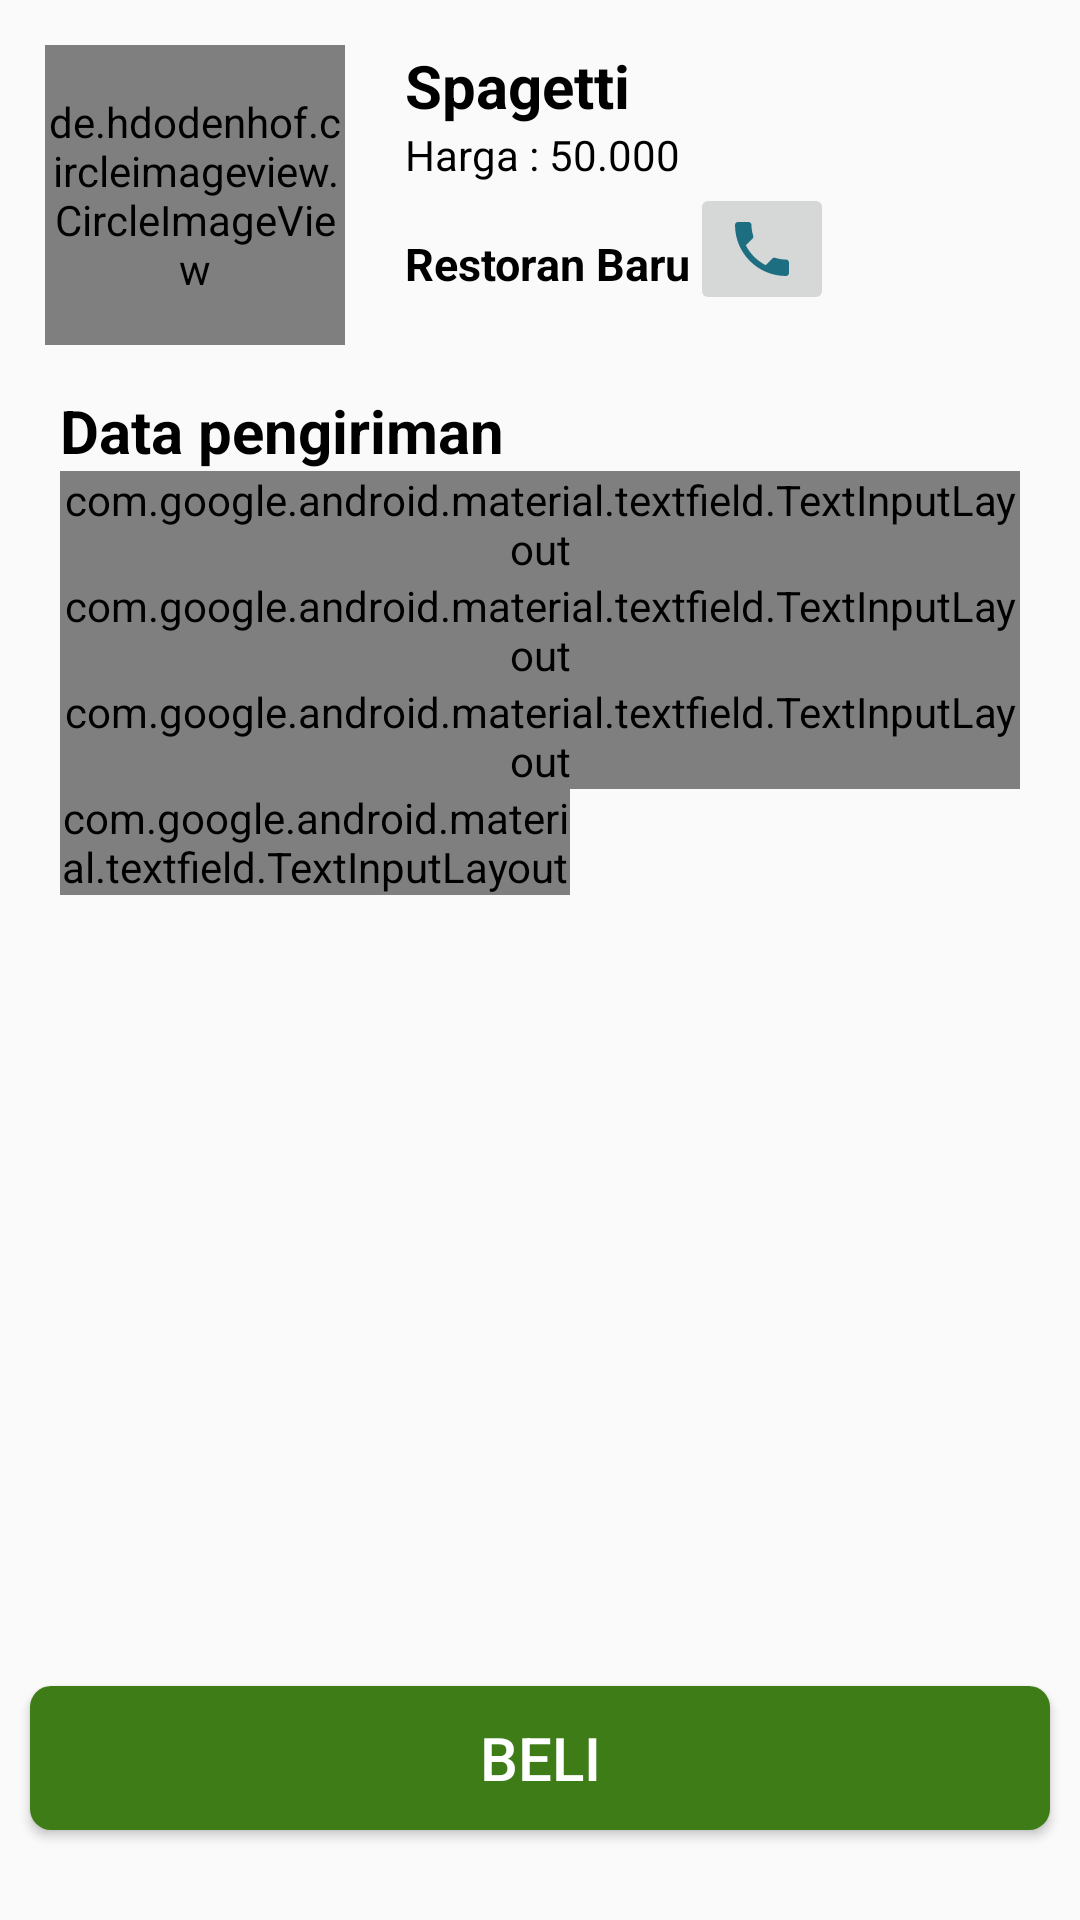

Icons on this 1080px x 1920px Android screen, each with its box as (x1, y1, x2, y2):
imagephone: (702, 201, 822, 297)
